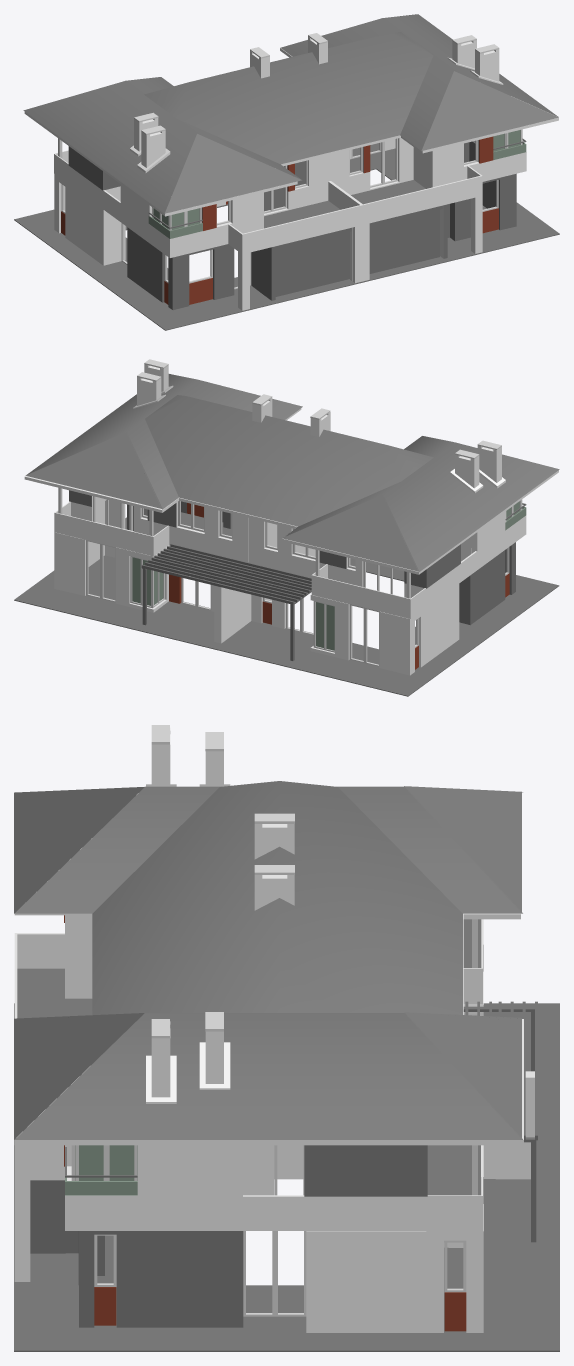
The model's file is house.FBX.
3 renders of one model, top to bottom at view 1: azimuth 30°, elevation 25°; view 2: azimuth 150°, elevation 25°; view 3: azimuth 270°, elevation 25°, orthographic. The views are drawn at different scales.
Parts seen in each view (by area): view 1: Plane35, Plane34, Rectangle01, Line21, Plane33, Line13, Plane36, Plane39, Line03, Line11, Box10, Box02 (+18 smaller); view 2: Plane35, Rectangle01, Plane34, Line13, Plane33, Line21, Plane41, Plane40, Line01, Line03, Line11, Line18 (+19 smaller); view 3: Plane35, Plane33, Rectangle01, Line01, Line03, Plane34, Line08, Plane39, Plane36, Plane40, Plane41, Line06 (+21 smaller).
Part boxes in pixels (<box>): Plane35: <box>144,32,507,164</box>; Plane34: <box>23,77,301,213</box>; Rectangle01: <box>14,143,559,330</box>; Line21: <box>69,155,329,257</box>; Plane33: <box>280,14,558,150</box>; Line13: <box>54,174,362,300</box>; Plane36: <box>165,134,301,213</box>; Plane39: <box>421,71,558,150</box>; Line03: <box>329,137,526,194</box>; Line11: <box>127,227,234,310</box>; Box10: <box>275,232,349,296</box>; Box02: <box>369,210,439,273</box>; Plane35: <box>145,395,433,526</box>; Rectangle01: <box>14,512,559,696</box>; Plane34: <box>283,436,559,572</box>; Line13: <box>218,545,459,675</box>; Plane33: <box>27,374,302,509</box>; Line21: <box>248,511,526,607</box>; Plane41: <box>282,494,418,571</box>; Plane40: <box>26,432,162,509</box>; Line01: <box>54,500,217,642</box>; Line03: <box>71,496,248,562</box>; Line11: <box>459,542,515,625</box>; Line18: <box>311,564,426,618</box>; Plane35: <box>92,781,462,1063</box>; Plane33: <box>14,1013,522,1139</box>; Rectangle01: <box>14,1003,559,1351</box>; Line01: <box>30,1074,534,1332</box>; Line03: <box>65,1145,426,1230</box>; Plane34: <box>15,786,522,913</box>; Line08: <box>78,1231,243,1327</box>; Plane39: <box>14,1013,144,1139</box>; Plane36: <box>14,787,144,913</box>; Plane40: <box>404,1012,521,1138</box>; Plane41: <box>404,786,521,912</box>; Line06: <box>304,1145,427,1196</box>.
Bounding box in the file's own units: 21128 × 9448 × 14007.
